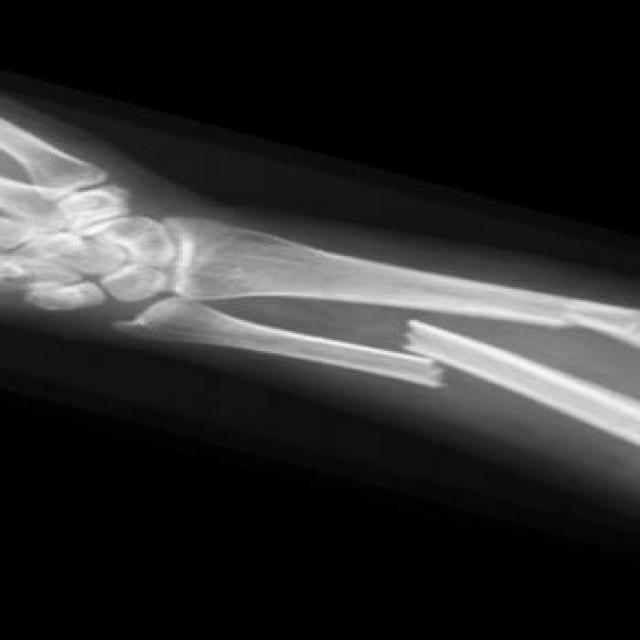Fracture: (376, 316, 464, 408), (519, 287, 609, 343)
